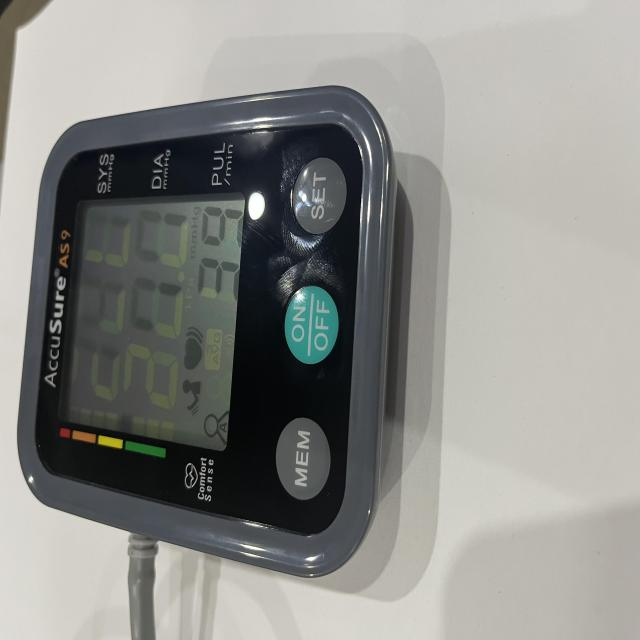bp: (16, 84, 441, 601)
